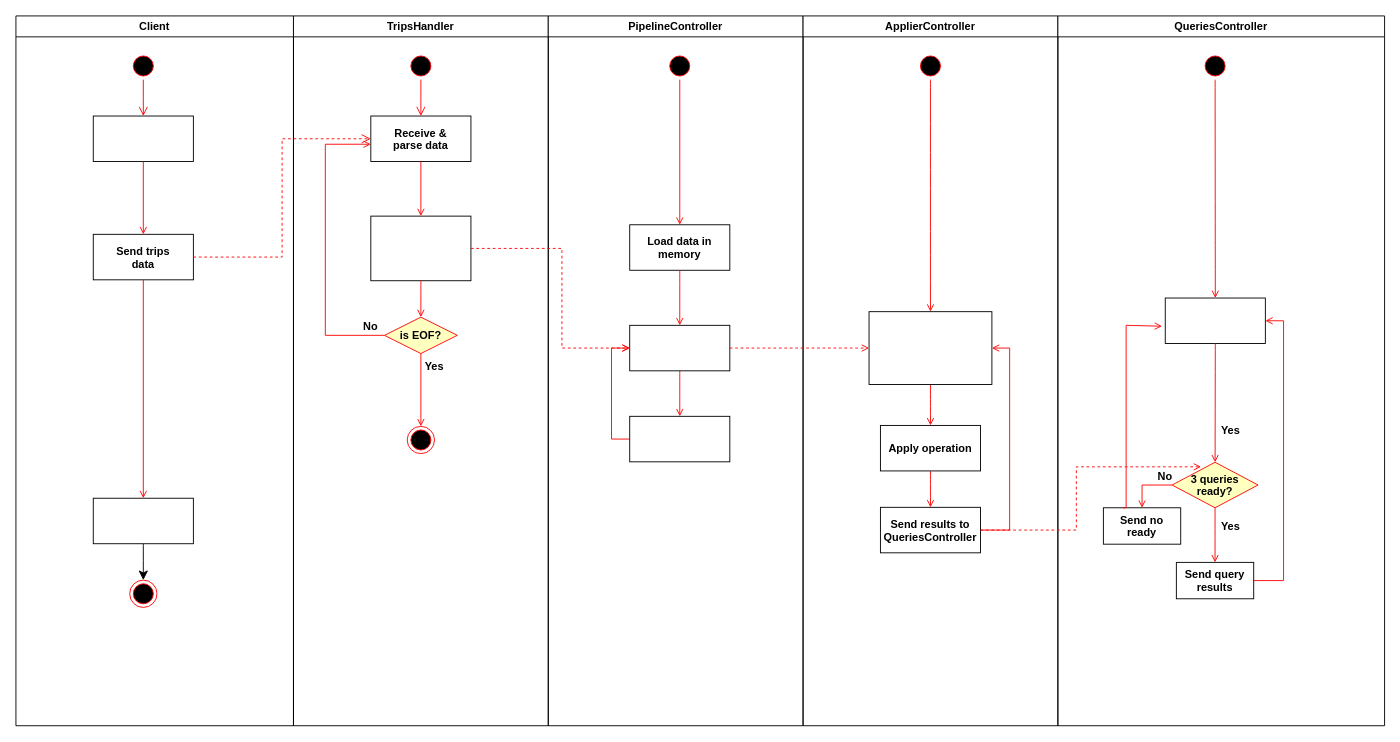
The diagram is 1400 pixels wide and 742 high, and some of its shapes have lost their labels. Each missing label, with the centre of its shape:
"Get status queries" goes at (x=142, y=520).
"Receive data & groupby by param. Wait for EOF" goes at (x=930, y=347).
"Receive request" goes at (x=1214, y=320).
"Redirect data to Pipeline controller. Filter useless columns" goes at (x=420, y=248).
"Send joined data to ApplierController" goes at (x=679, y=438).
"Send static data" goes at (x=142, y=138).
"Wait for trip data" goes at (x=679, y=347).
